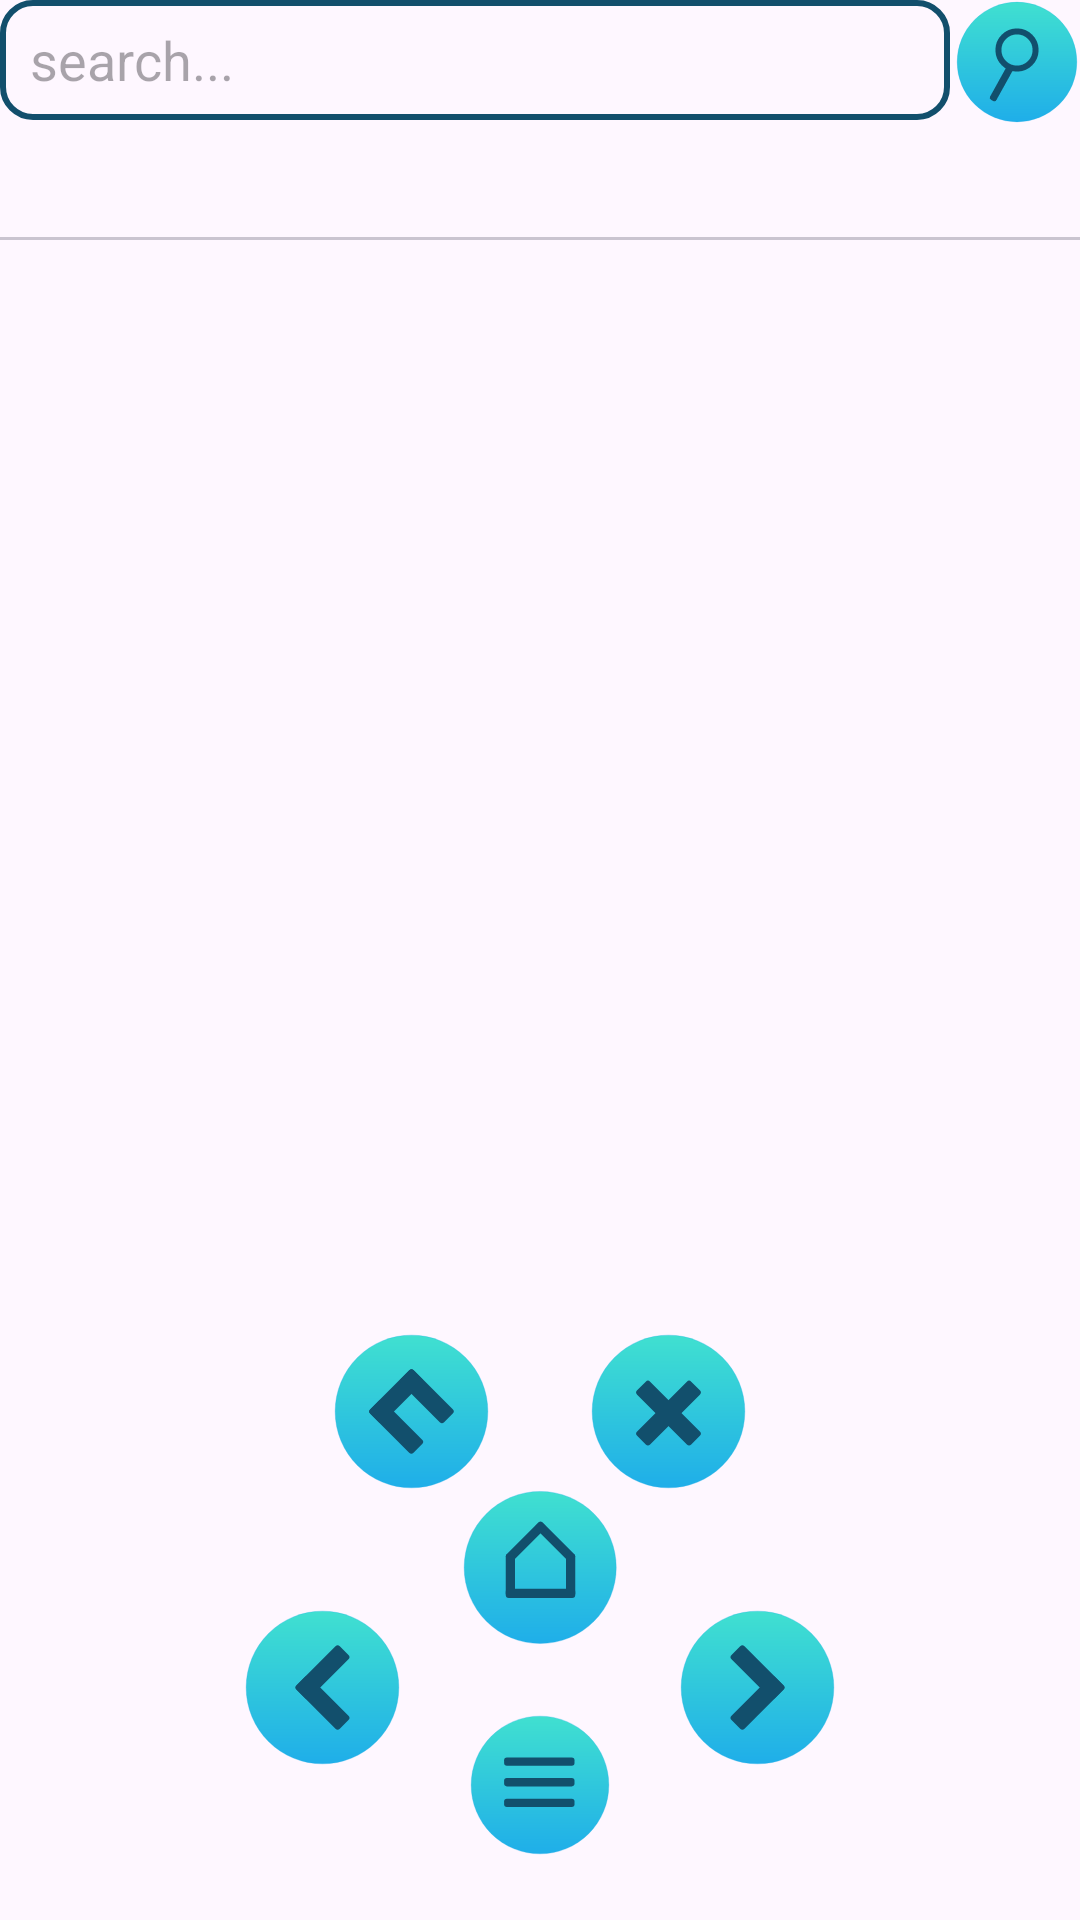

Icons on this 1080w x 1920h Android screen, each with its box as BBox(x1, y1, x2, y2):
close: BBox(592, 1335, 745, 1488)
home: BBox(464, 1491, 617, 1644)
next: BBox(681, 1611, 834, 1764)
previous: BBox(246, 1611, 399, 1764)
reload: BBox(335, 1335, 488, 1488)
